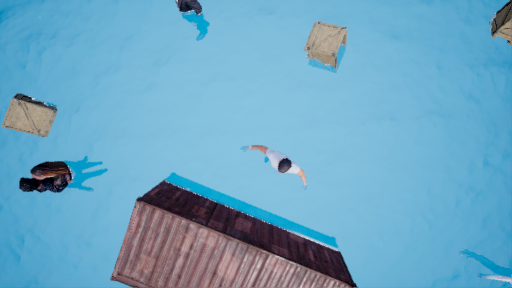person: (14, 155, 109, 199), (247, 140, 307, 188)
